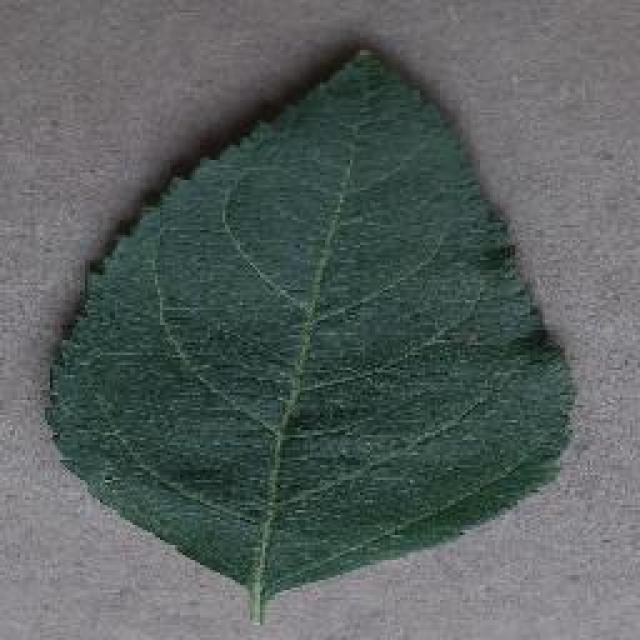apple healthy: (40, 40, 578, 622)
